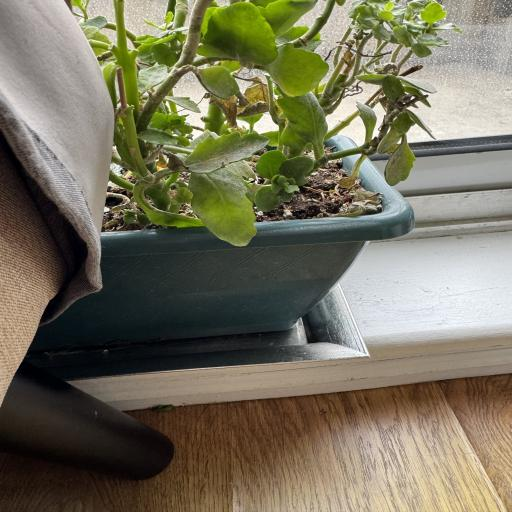Plant Pot: (48, 126, 416, 352)
